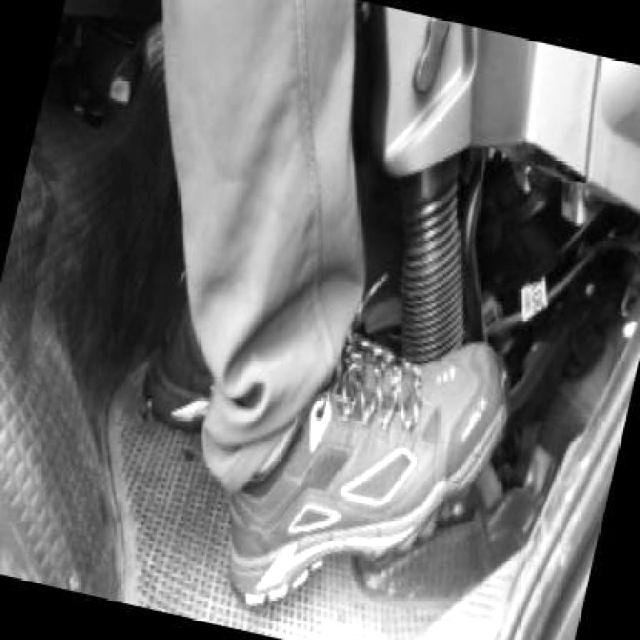No-Boots: (222, 340, 513, 626)
